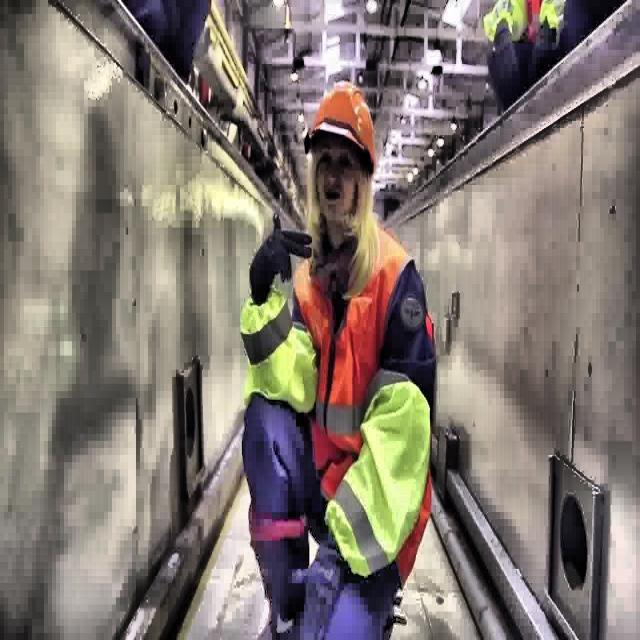safety_helmet: (306, 77, 378, 166)
safety_jacket: (296, 211, 410, 505), (322, 380, 428, 576), (241, 294, 319, 407)
